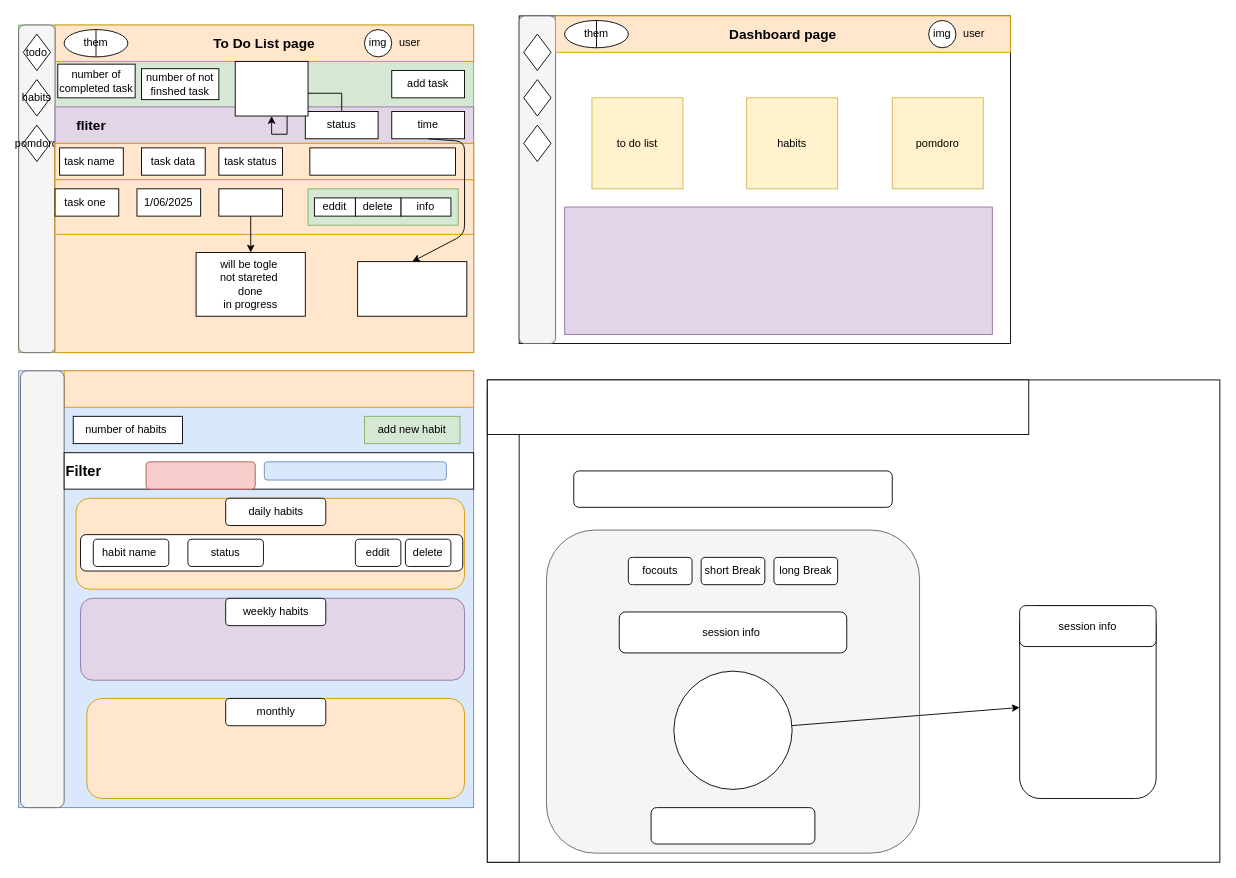
Some shapes in this 1236 by 878 pixel diagram are drawn without their labels. Here are the shapes that lost their labels. From the top down, the box of each, then its label:
(234, 61, 308, 116): 1-all tasks 2-done 3-in progress 4-not started
(309, 147, 455, 175): controls
(218, 188, 283, 216): status togle
(357, 261, 467, 316): time filter all date started from date singn in
(564, 206, 992, 334): list actives in site
(63, 370, 474, 407): Habit Tracker
(145, 461, 255, 489): time filter(today, tommrow etc)
(263, 461, 446, 480): filter btn (all - daily-weekly - monthly)
(573, 470, 892, 507): qouts
(1019, 605, 1156, 799): time type task alerm custom notfiction
(650, 807, 815, 844): start / end
